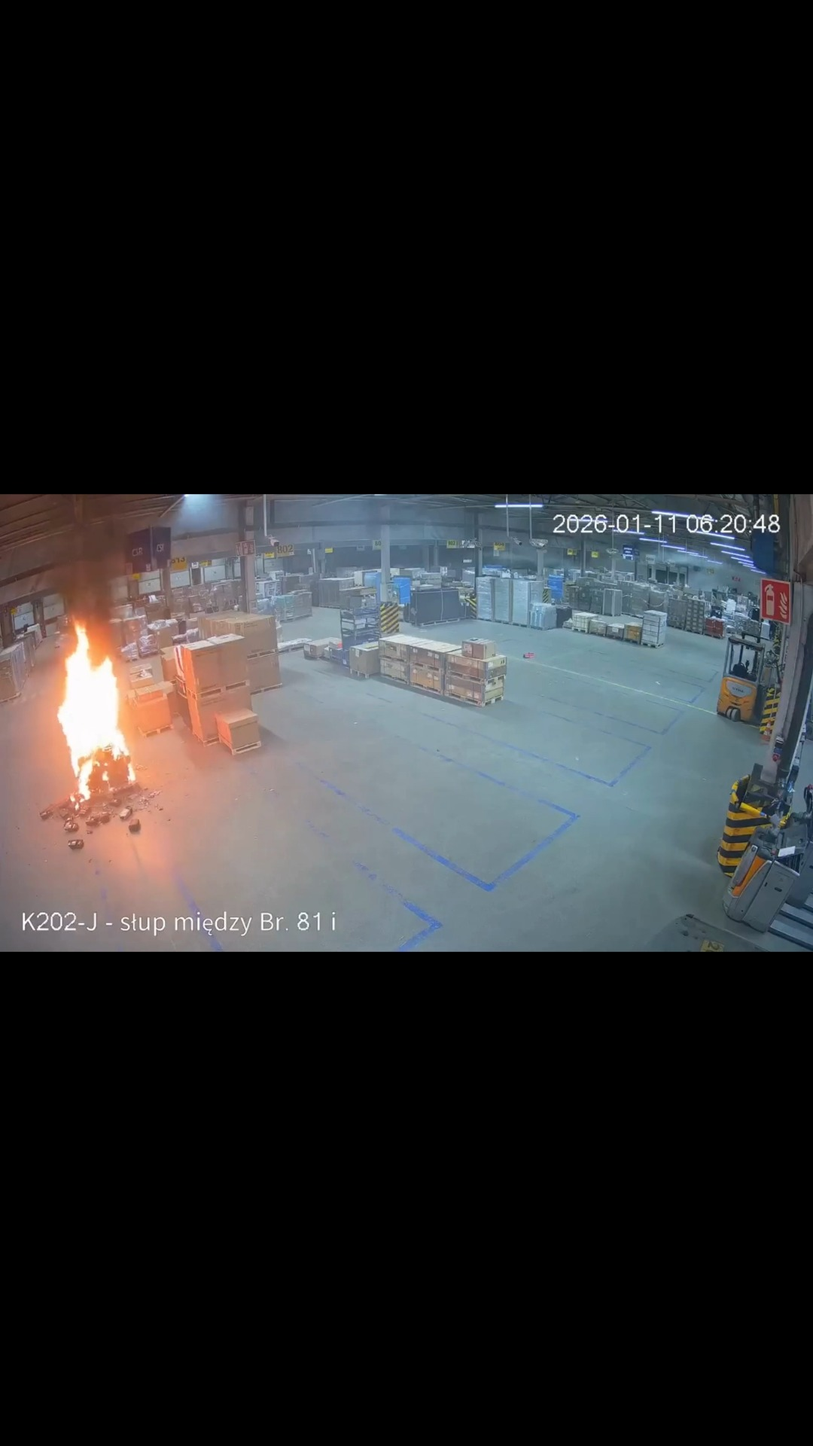fire: (56, 621, 137, 811)
smoke: (50, 495, 135, 644)
